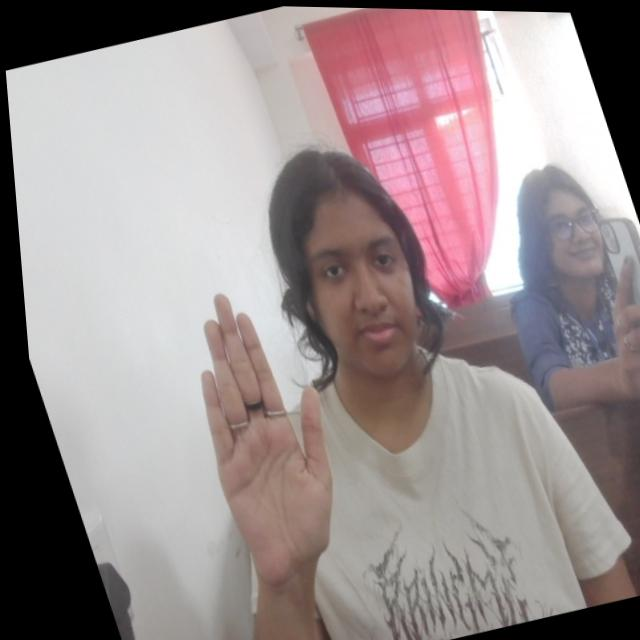hello: (154, 272, 367, 586)
